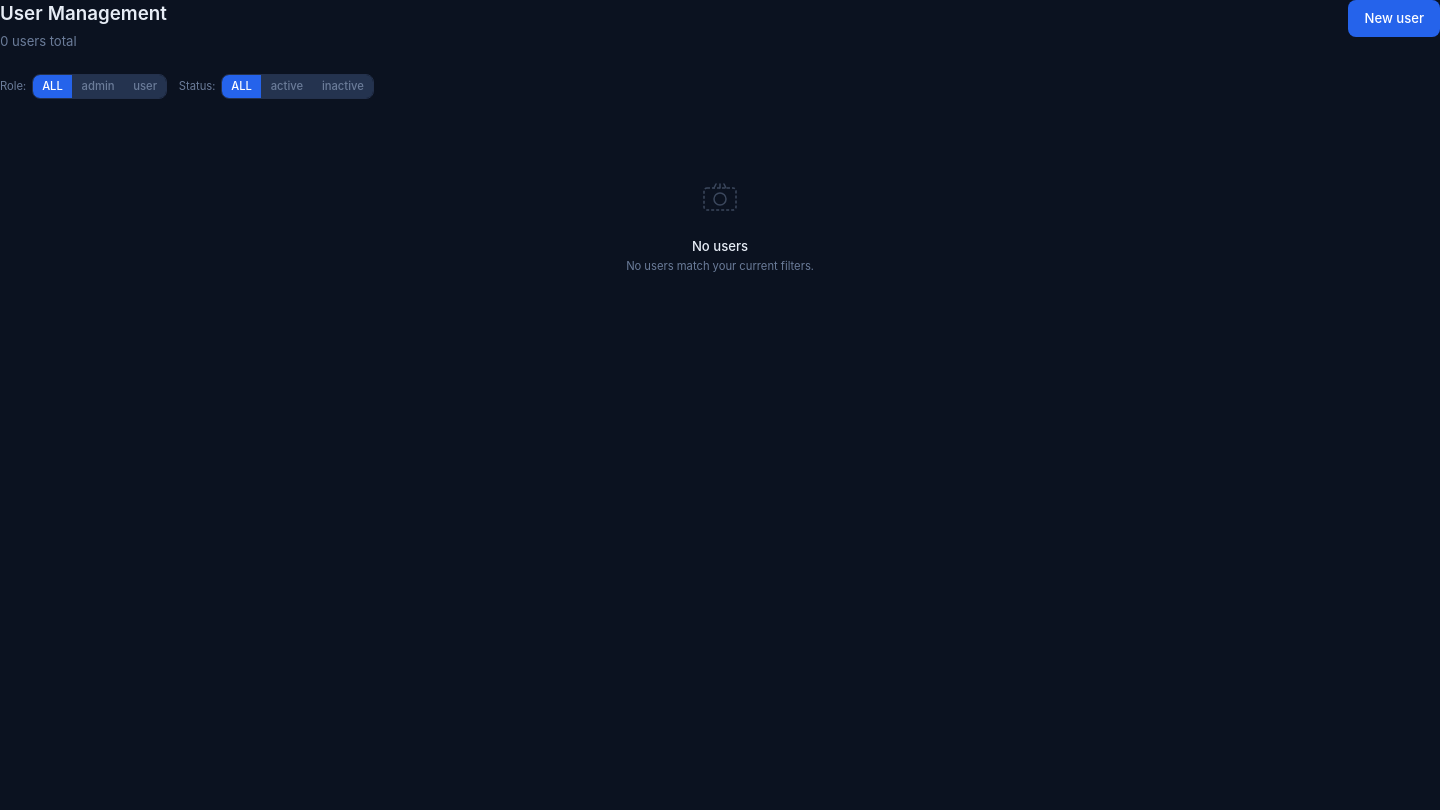
Test: UsersPage › opens create modal on button click
Click the button "New user" at (1394, 18), box x1=1348 y1=0 x2=1439 y2=37
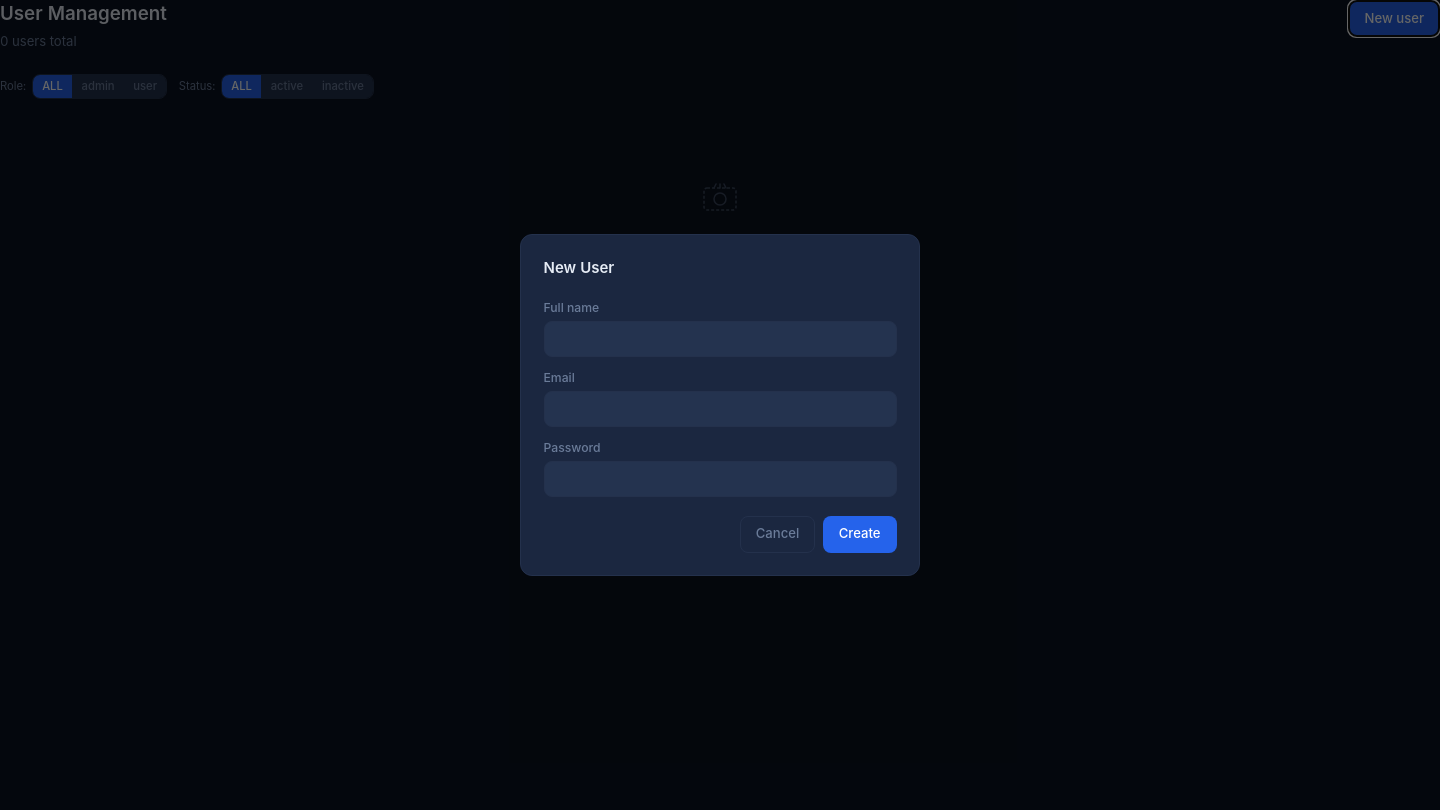
Expected: the heading "New User" is shown, x1=544 y1=258 x2=614 y2=277
